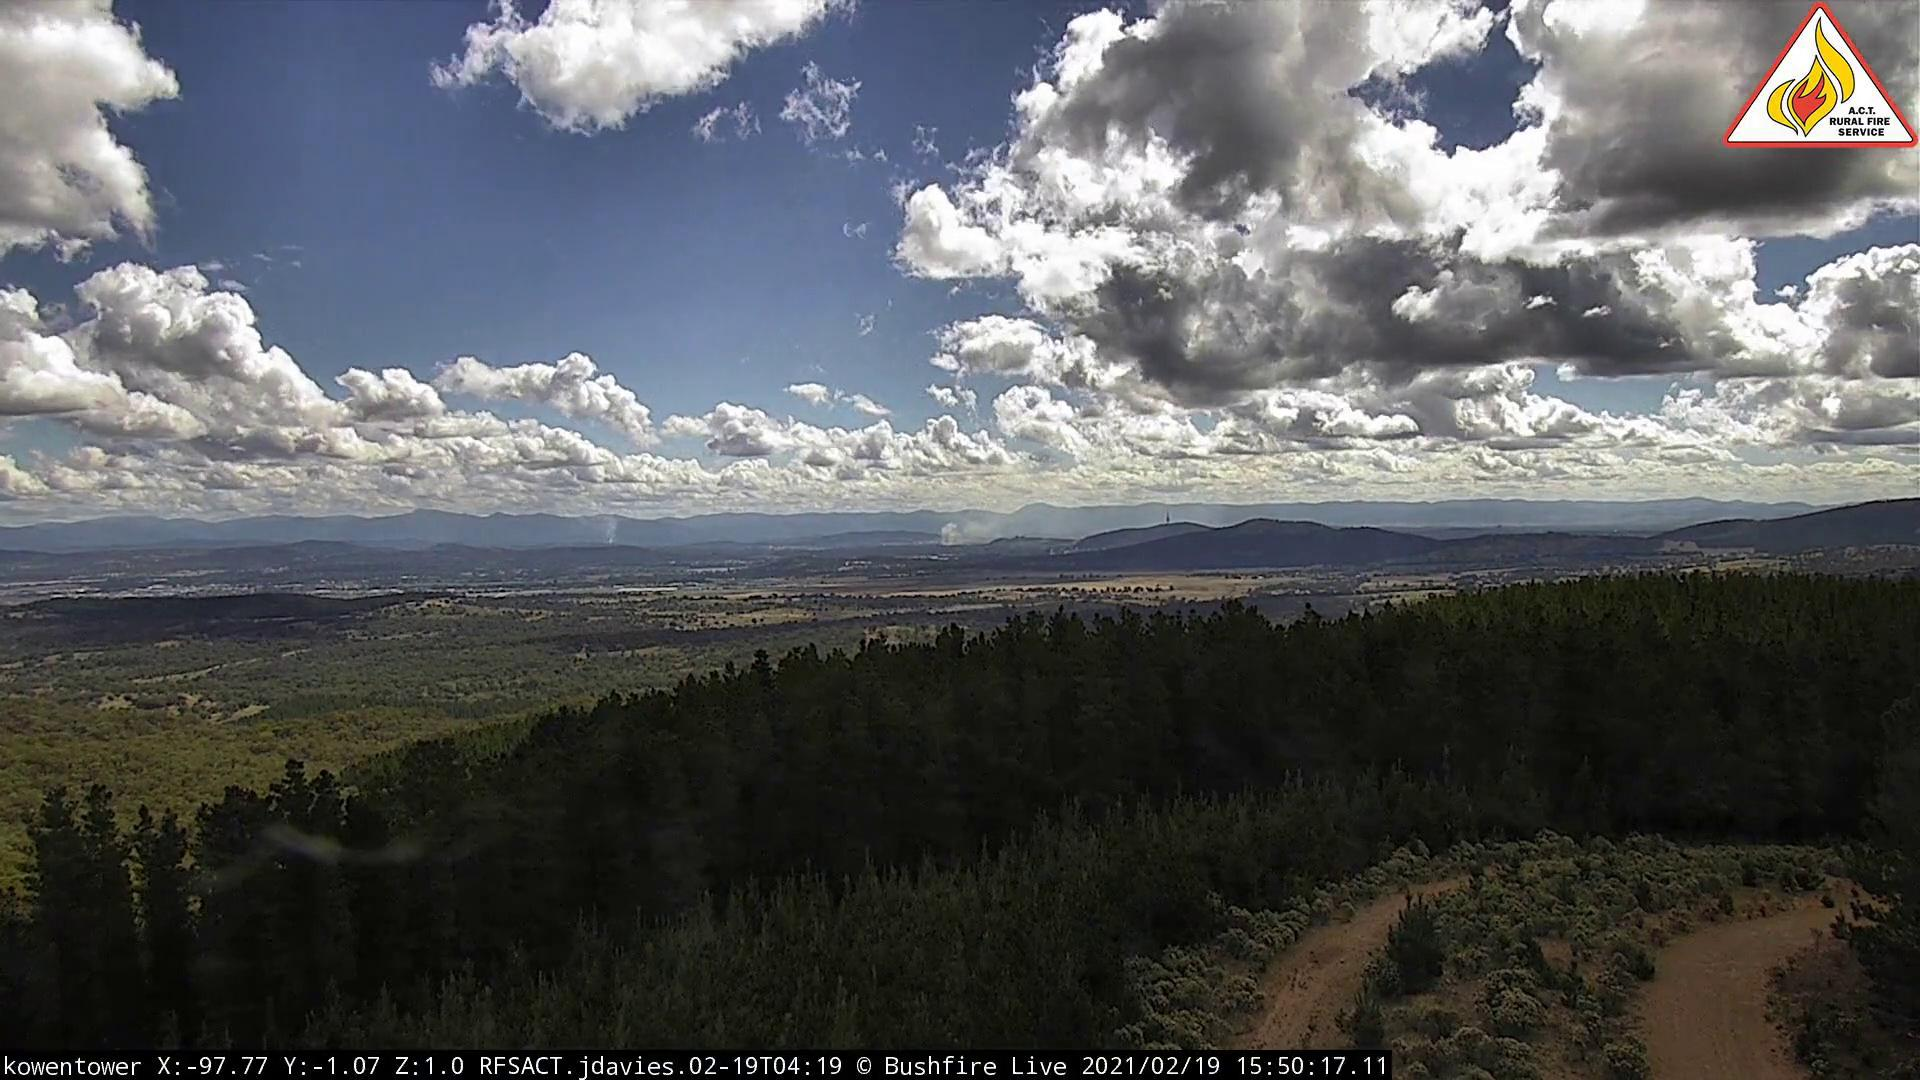Smoke: (938, 506, 1021, 551), (603, 525, 626, 551)
